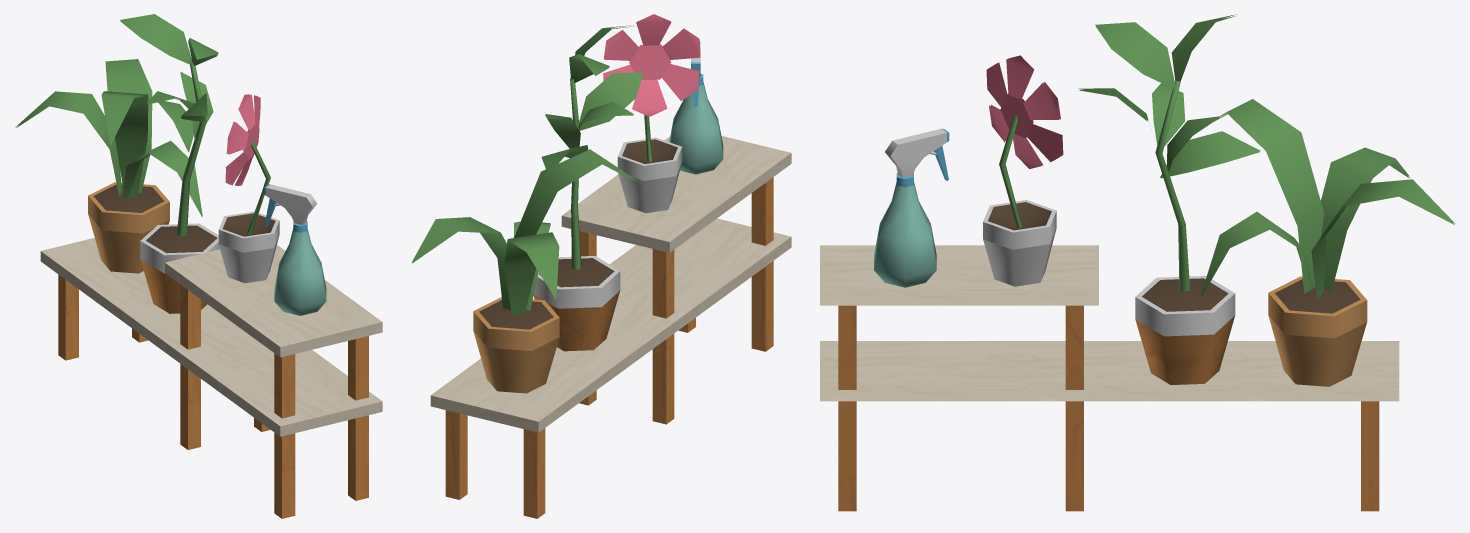
The model's file is interior_A_015.fbx.
3 renders of one model, left to right at view 1: azimuth 30°, elevation 25°; view 2: azimuth 150°, elevation 25°; view 3: azimuth 270°, elevation 25°, orthographic. The views are drawn at different scales.
Parts seen in each view (by area): view 1: interior_A_015; view 2: interior_A_015; view 3: interior_A_015.
Boxes of the visible parts, <box> form: interior_A_015: <box>15,14,382,518</box>; interior_A_015: <box>411,14,791,518</box>; interior_A_015: <box>820,14,1455,511</box>.
Size of the model in its own units: 38.42 by 114 by 141.
9 materials, 2 textured.
